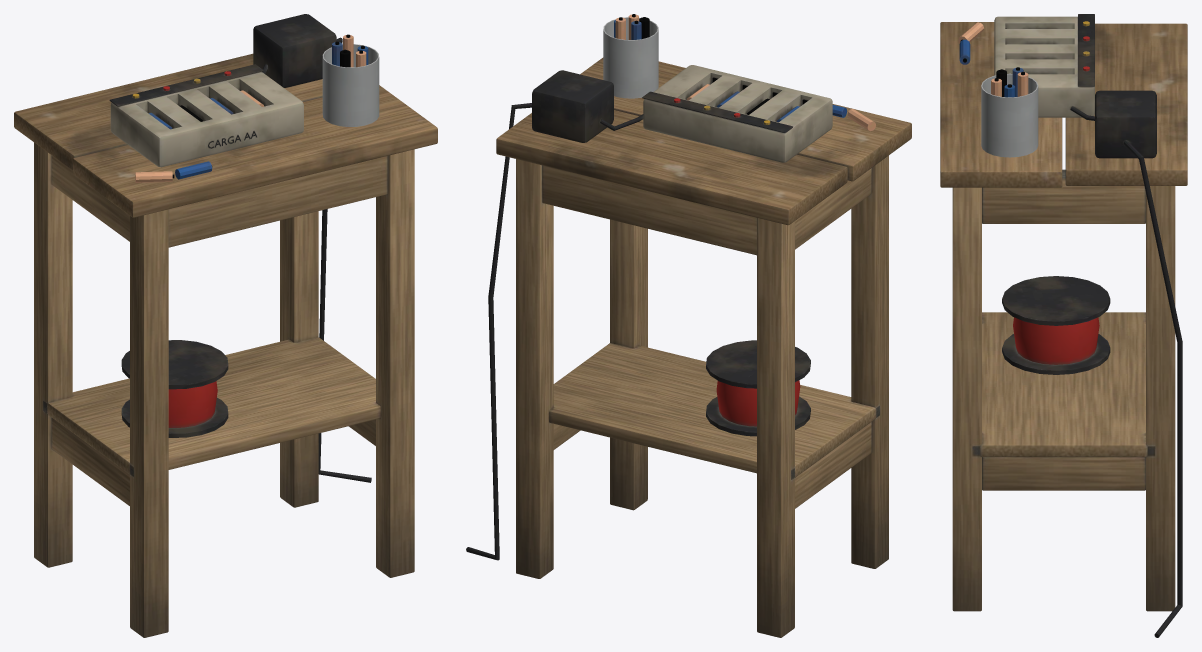
File: carregador_pilhas.glb
3 views of the same model, side by side, from view 1: azimuth 30°, elevation 25°; view 2: azimuth 150°, elevation 25°; view 3: azimuth 270°, elevation 25° (orthographic). The views are drawn at different scales.
Parts seen in each view (by area): view 1: estrutura, carregador; view 2: estrutura, carregador; view 3: estrutura, carregador.
Boxes of the visible parts, x1,y1,x2,y2 form: estrutura: [14, 53, 437, 637]; carregador: [109, 14, 379, 482]; estrutura: [496, 57, 911, 637]; carregador: [466, 14, 875, 560]; estrutura: [940, 22, 1187, 611]; carregador: [958, 14, 1182, 637].
Size of the model in its own units: 0.5216 by 0.7465 by 0.32.
1 material, 1 textured.
